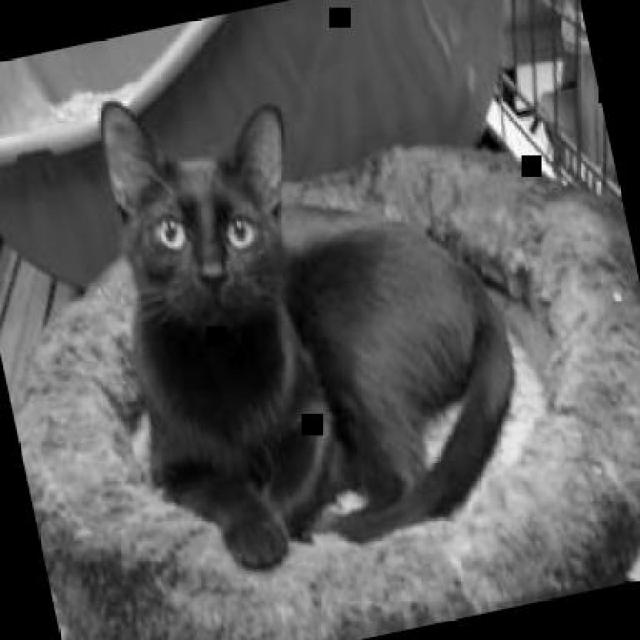cat: (80, 28, 546, 587)
